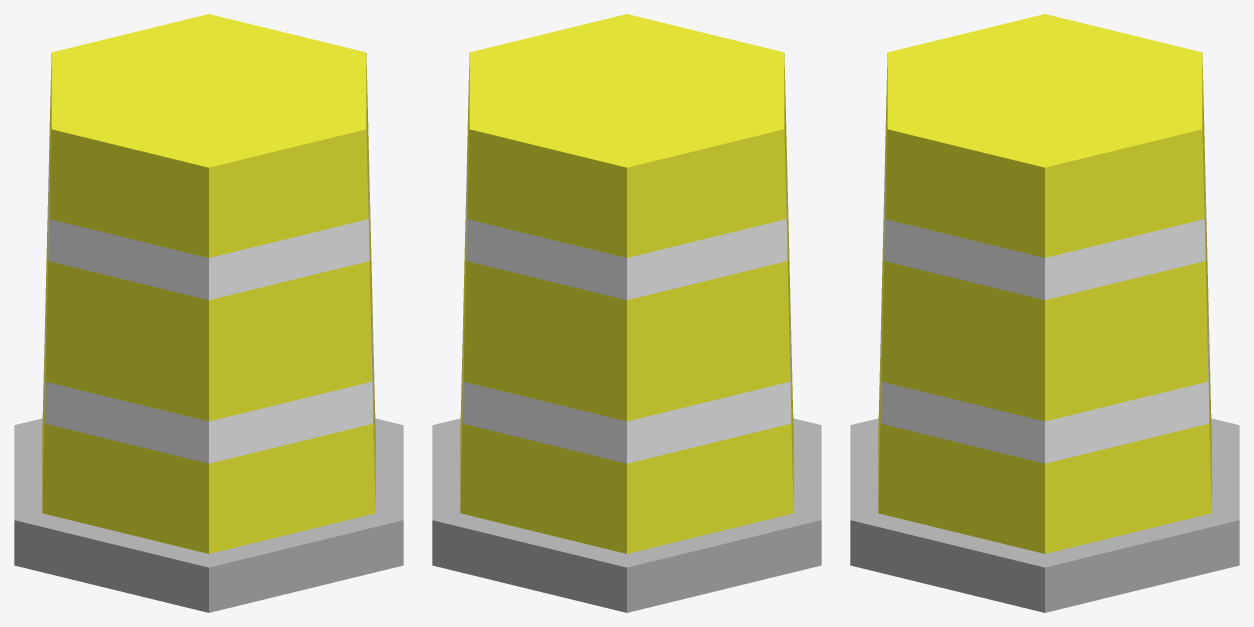
The model's file is SM_ConstructSign_04.FBX.
3 renders of one model, left to right at view 1: azimuth 30°, elevation 25°; view 2: azimuth 150°, elevation 25°; view 3: azimuth 270°, elevation 25°, orthographic.
Size of the model in its own units: 0.2937 by 0.3081 by 0.2544.
1 material, 1 textured.
